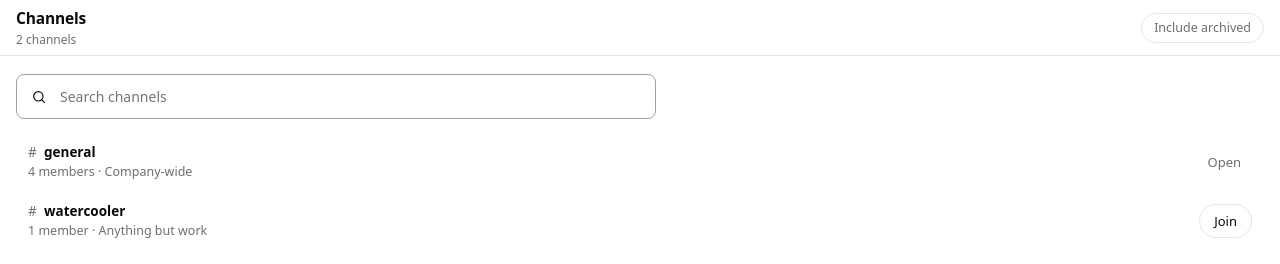
Test case: the channel directory › says so when nothing matches, naming what was searched for
Check: the text "general" is shown, box [44,143,96,161]
Type "zzz" into the field labelled "Search channels".
click(350, 96); type("zzz")  # box [58,86,641,107]
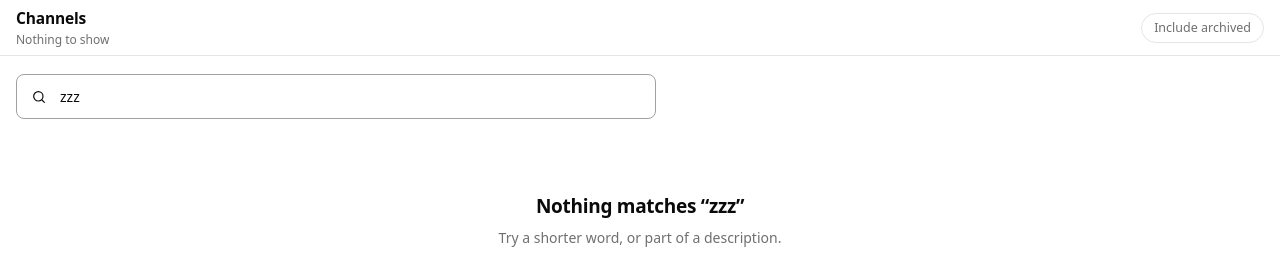
Check: the text "Nothing matches “zzz”" is shown, box [536,193,744,219]
